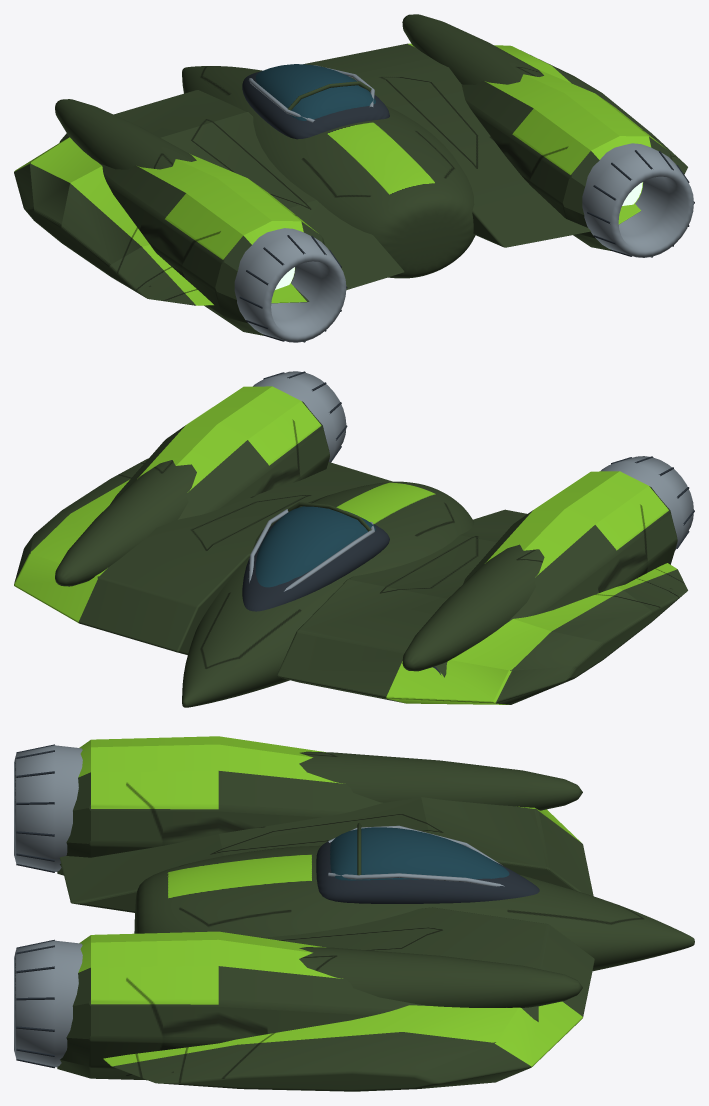
3 views of the same model, one above another, from view 1: azimuth 30°, elevation 25°; view 2: azimuth 150°, elevation 25°; view 3: azimuth 270°, elevation 25° (orthographic). The views are drawn at different scales.
Visible parts, largest first — view 1: CobaltGuardV2; view 2: CobaltGuardV2; view 3: CobaltGuardV2.
Boxes of the visible parts, <box> form: CobaltGuardV2: <box>14,14,694,342</box>; CobaltGuardV2: <box>14,371,694,707</box>; CobaltGuardV2: <box>14,736,694,1091</box>.
Size of the model in its own units: 3 by 0.7206 by 2.83.
6 materials, 2 textured.
